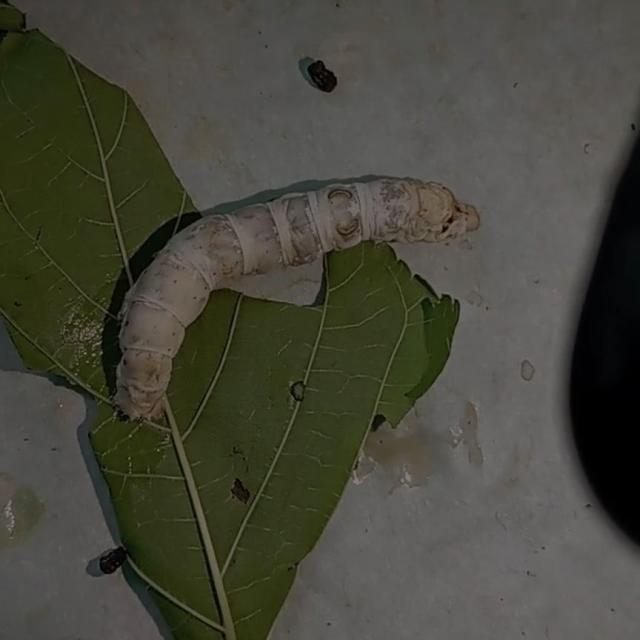Grasserie: (89, 146, 500, 444)
